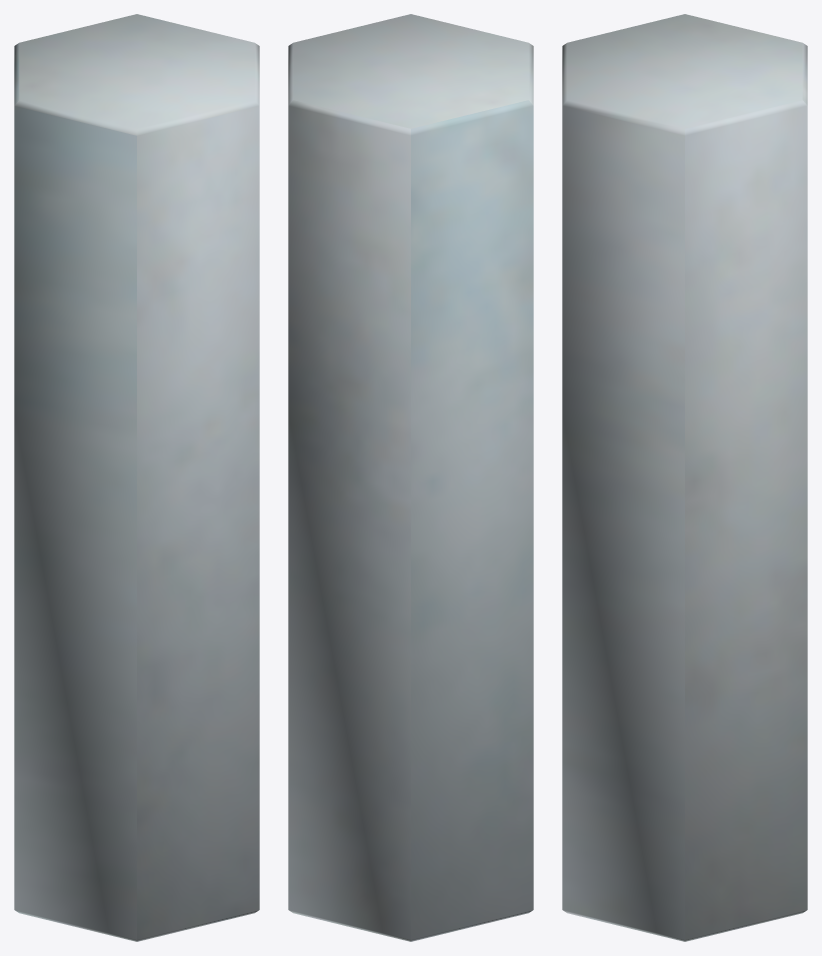
Rendered from P_RockHexic_Piece03.obj.
3 views of the same model, side by side, from view 1: azimuth 30°, elevation 25°; view 2: azimuth 150°, elevation 25°; view 3: azimuth 270°, elevation 25° (orthographic).
Bounding box in the file's own units: 3.6 × 11.41 × 3.12.
